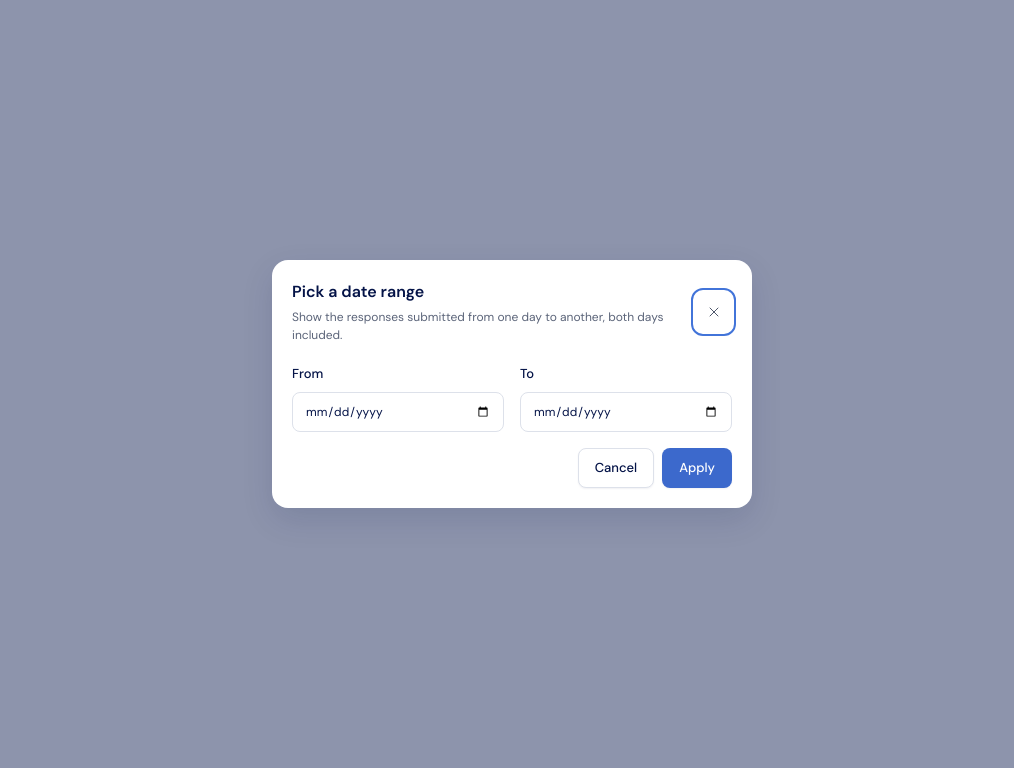
Test: CustomRangeModal › refuses an end before the start, in words, and applies nothing
Step 1. Type "2026-10-20" into the date field labelled "From" → point(398, 412), box [292,392,504,432]
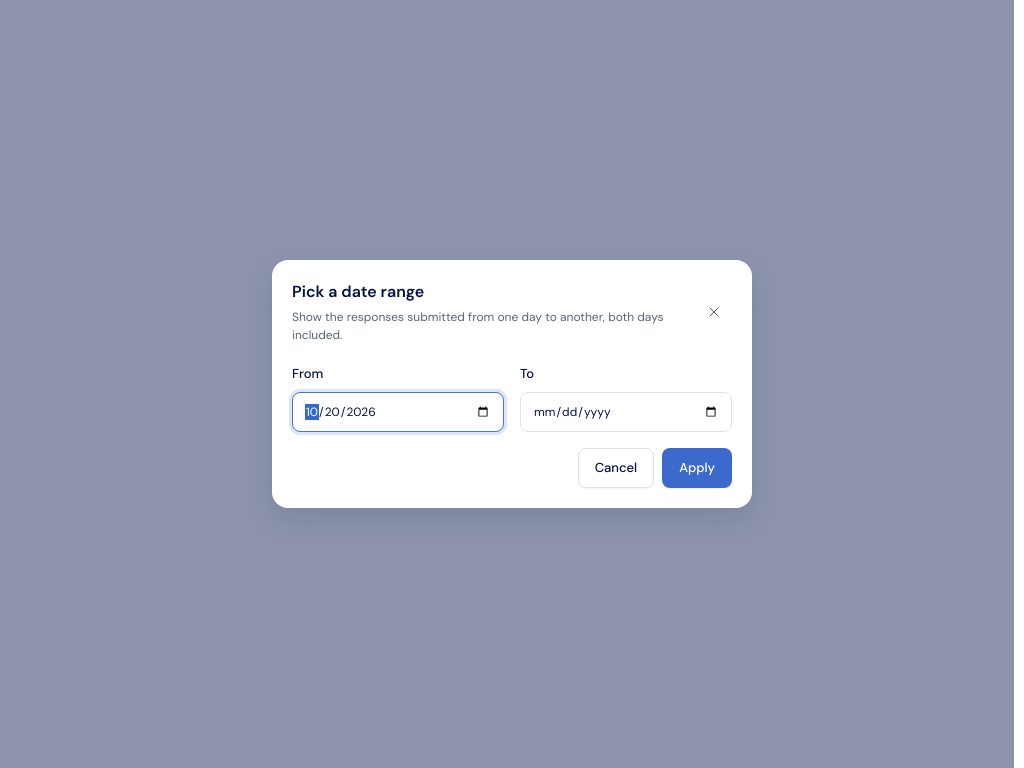
Step 2. Type "2026-10-05" into the date field labelled "To" → point(626, 412), box [520,392,732,432]
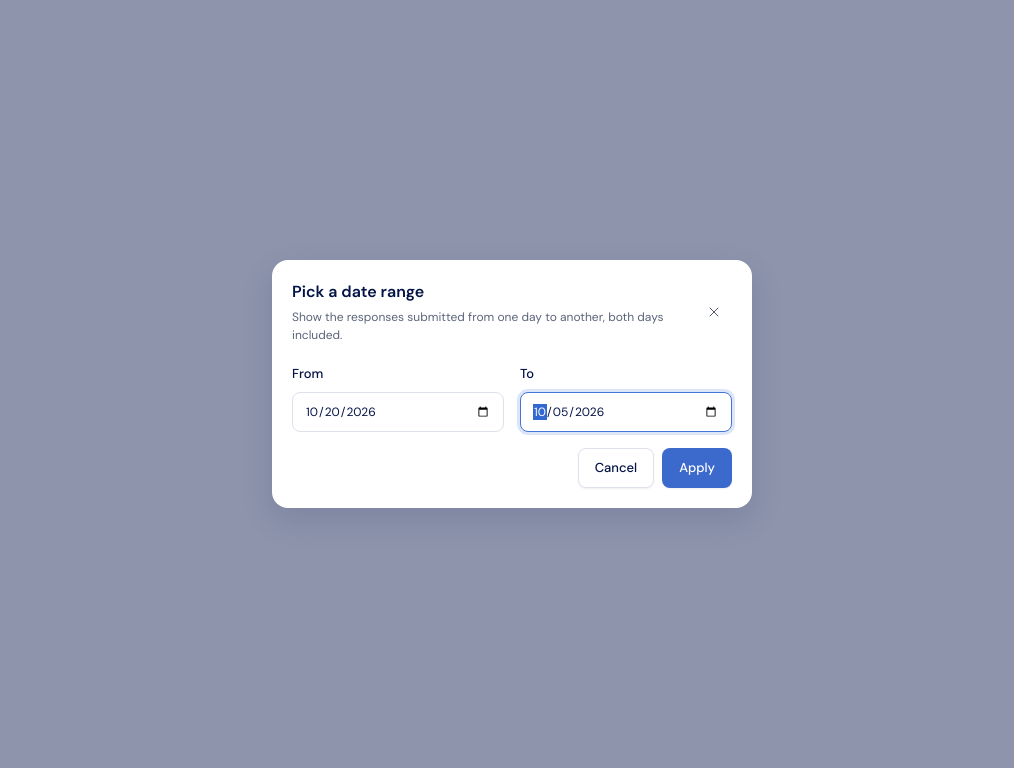
Step 3. Click the button "Apply" → point(697, 468), box [662,448,732,488]
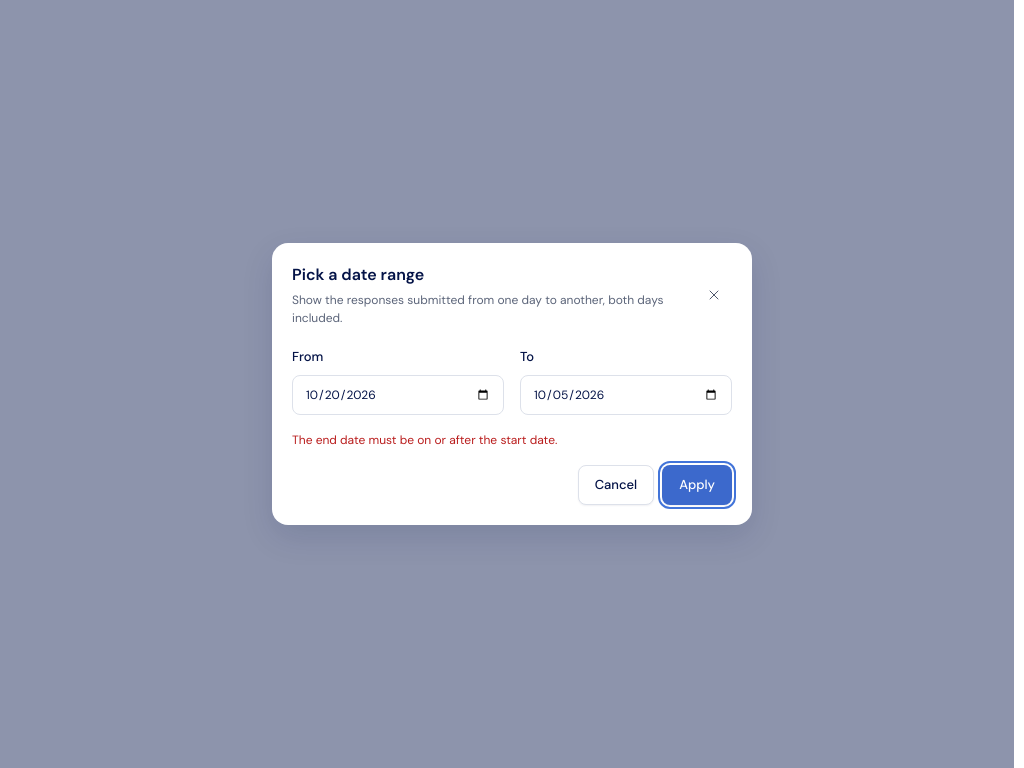
Expected: the message "The end date must be on or after the start date." is shown, [292,432,557,448]
